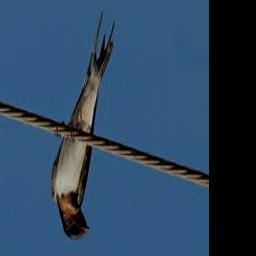Swallow: (51, 12, 115, 240)
